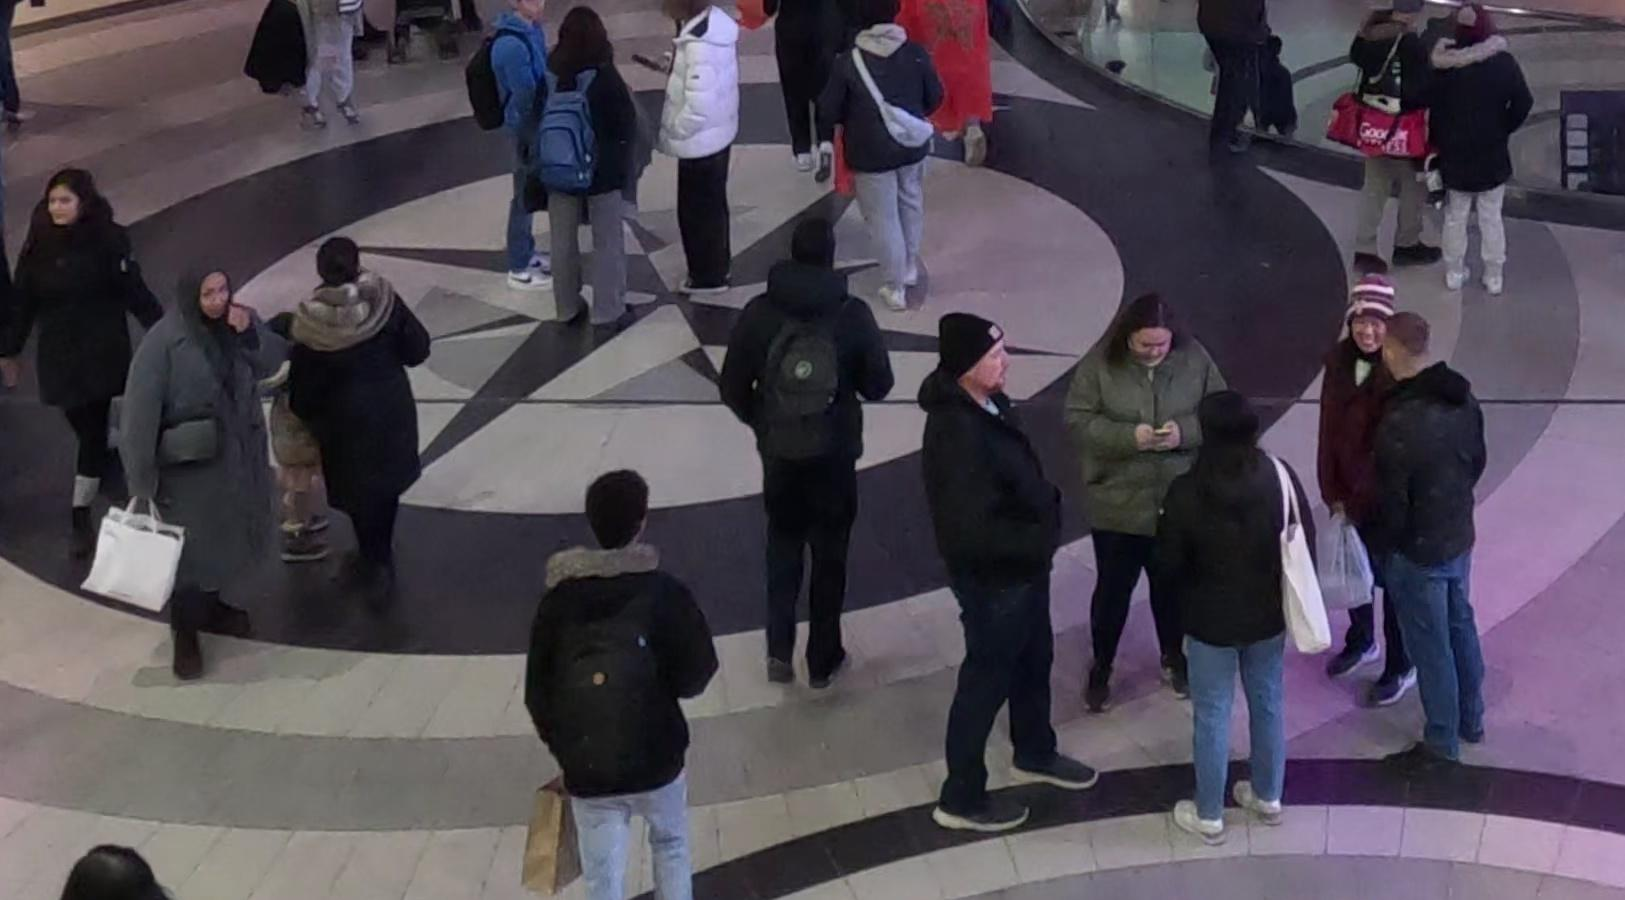person: (512, 470, 715, 900), (926, 290, 1060, 852), (1150, 379, 1309, 847), (18, 155, 164, 632), (135, 237, 287, 695), (738, 213, 874, 720), (1063, 284, 1203, 731), (1366, 317, 1496, 791), (294, 239, 434, 630), (838, 1, 963, 337), (531, 7, 646, 356), (1411, 18, 1540, 308), (647, 2, 753, 315), (10, 831, 235, 899)
